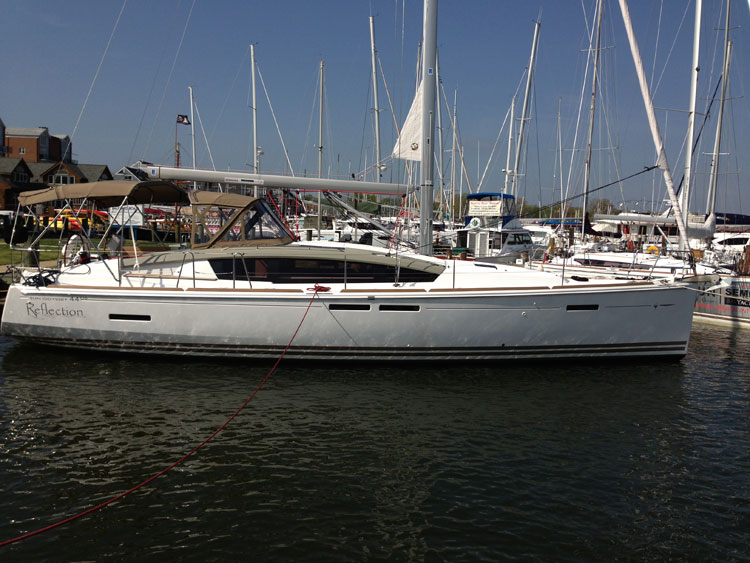boat: (7, 139, 709, 369)
